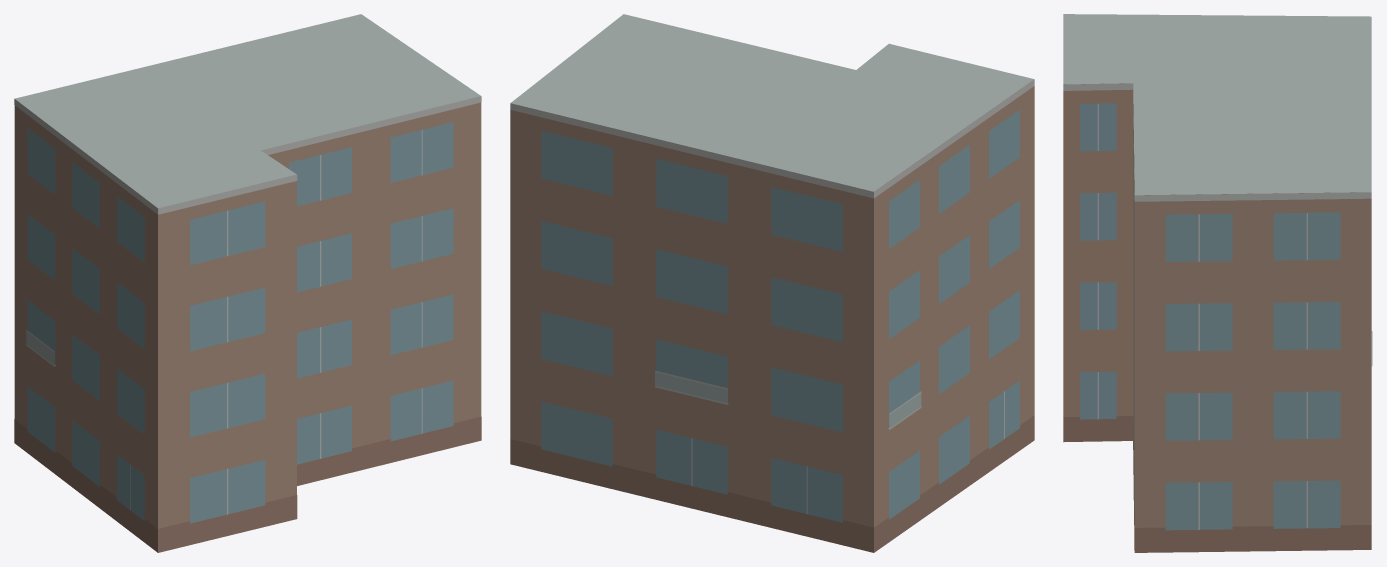
File: survey-upis-32496844.glb
3 renders of one model, left to right at view 1: azimuth 30°, elevation 25°; view 2: azimuth 150°, elevation 25°; view 3: azimuth 270°, elevation 25°, orthographic. The views are drawn at different scales.
Visible parts, largest first — view 1: survey-upis-32496844.tmp; view 2: survey-upis-32496844.tmp; view 3: survey-upis-32496844.tmp.
Part boxes in pixels (x1=…): survey-upis-32496844.tmp: x1=14, y1=14, x2=481, y2=552; survey-upis-32496844.tmp: x1=510, y1=14, x2=1034, y2=552; survey-upis-32496844.tmp: x1=1063, y1=14, x2=1372, y2=552.
Size of the model in its own units: 14.48 by 13.31 by 10.45.
